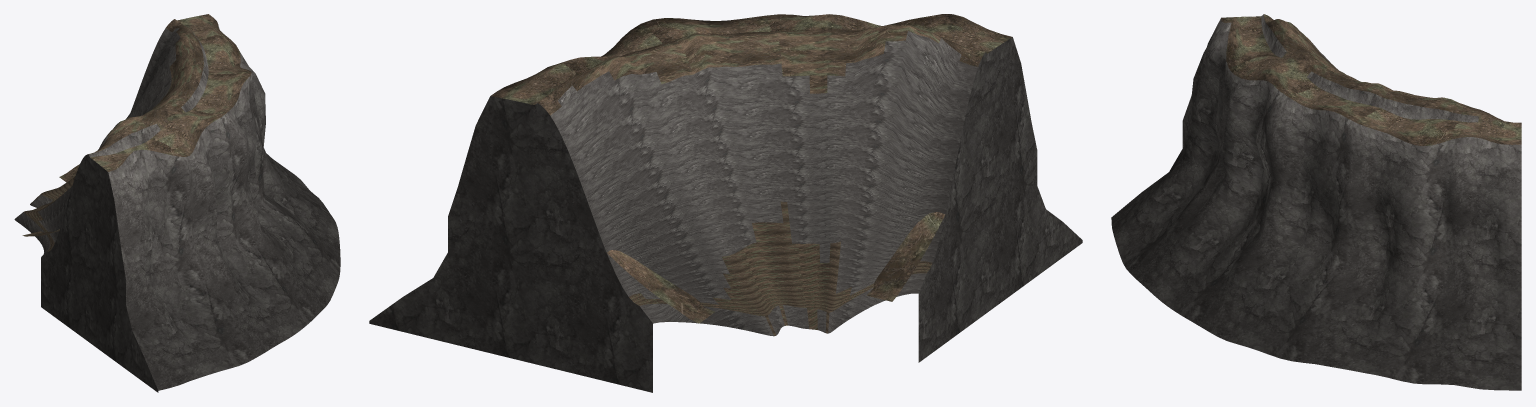
File: seacliff_outer_h3_v5_autumn.glb
The picture shows the model from 3 angles, left to right: view 1: azimuth 30°, elevation 25°; view 2: azimuth 150°, elevation 25°; view 3: azimuth 270°, elevation 25°; orthographic projection. The views are drawn at different scales.
Parts seen in each view (by area): view 1: seacliff_outer_h3; view 2: seacliff_outer_h3; view 3: seacliff_outer_h3.
Boxes of the visible parts, left/top/right/bottom form: seacliff_outer_h3: left=14, top=14, right=340, bottom=392; seacliff_outer_h3: left=369, top=14, right=1082, bottom=392; seacliff_outer_h3: left=1111, top=14, right=1521, bottom=390.
Bounding box in the file's own units: 8.19 × 4.93 × 8.19.
Materials: 2 (2 with a texture image).
